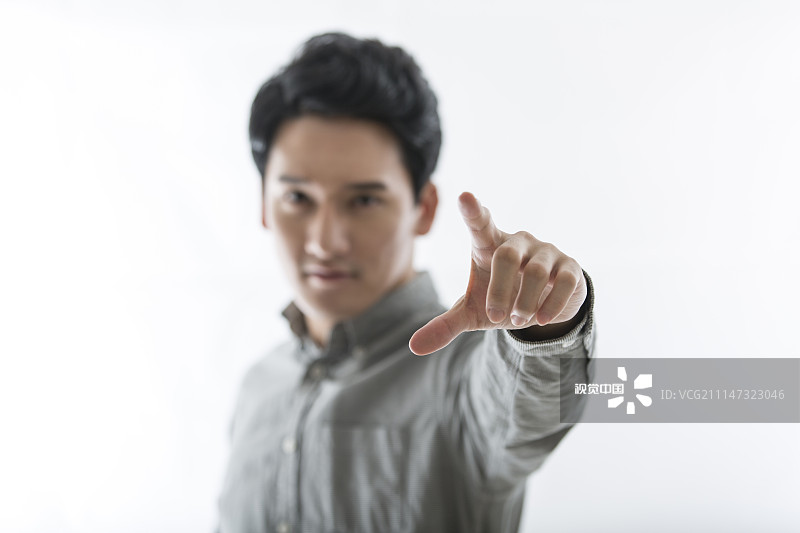no-phone: (400, 181, 604, 373)
